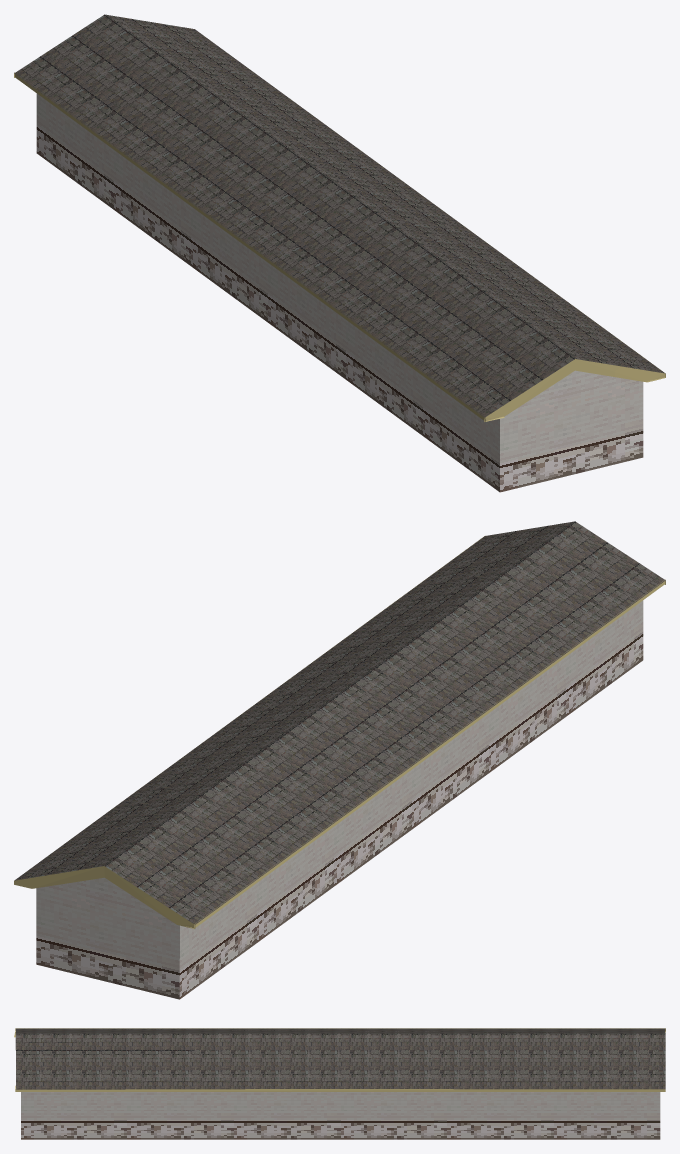
Rendered from lodw_stwnyles.obj.
3 views of the same model, one above another, from view 1: azimuth 30°, elevation 25°; view 2: azimuth 150°, elevation 25°; view 3: azimuth 270°, elevation 25° (orthographic). The views are drawn at different scales.
Parts seen in each view (by area): view 1: lodw_stwnyles; view 2: lodw_stwnyles; view 3: lodw_stwnyles.
Boxes of the visible parts, <box> form: lodw_stwnyles: <box>14,14,665,492</box>; lodw_stwnyles: <box>14,521,665,999</box>; lodw_stwnyles: <box>14,1028,665,1139</box>.
Size of the model in its own units: 5.65 by 3.53 by 25.44.
3 materials, 3 textured.
